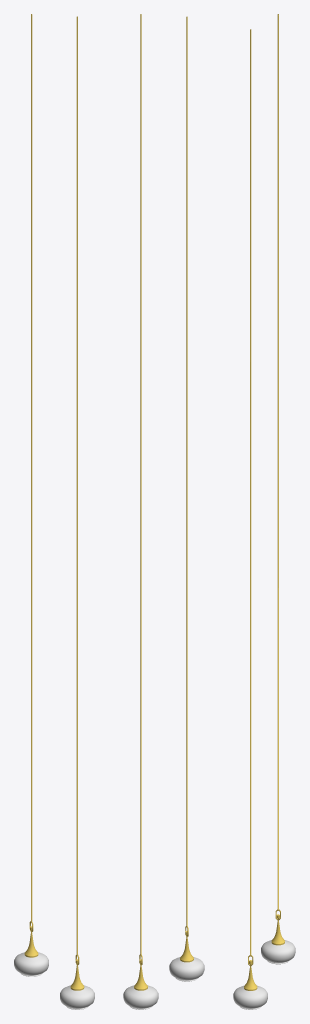
The model's file is Lamps.fbx.
3 renders of one model, left to right at view 1: azimuth 30°, elevation 25°; view 2: azimuth 210°, elevation 25°; view 3: azimuth 270°, elevation 25°, orthographic.
Visible parts, largest first — view 1: Lamps; view 2: Lamps; view 3: Lamps.
Boxes of the visible parts, x1=… form: Lamps: x1=14, y1=14, x2=94, y2=1009; Lamps: x1=123, y1=14, x2=204, y2=1009; Lamps: x1=233, y1=14, x2=295, y2=1009.
Bounding box in the file's own units: 46.01 × 697 × 40.38.
3 materials, 1 textured.
